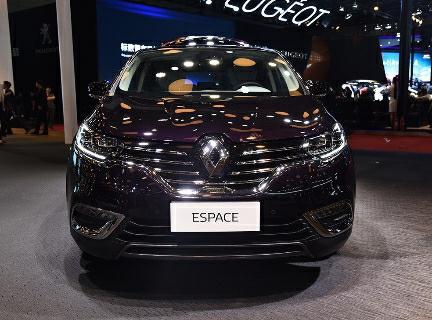雷诺-Espace: (56, 30, 365, 271)
